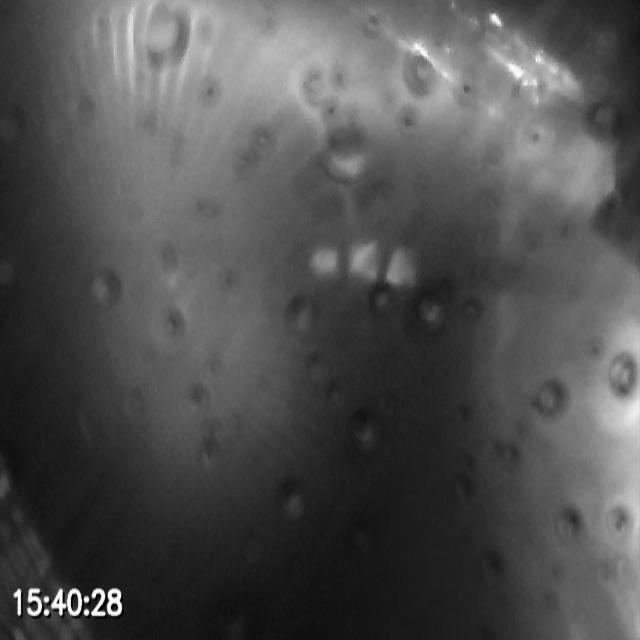white-dots: (308, 238, 416, 288)
